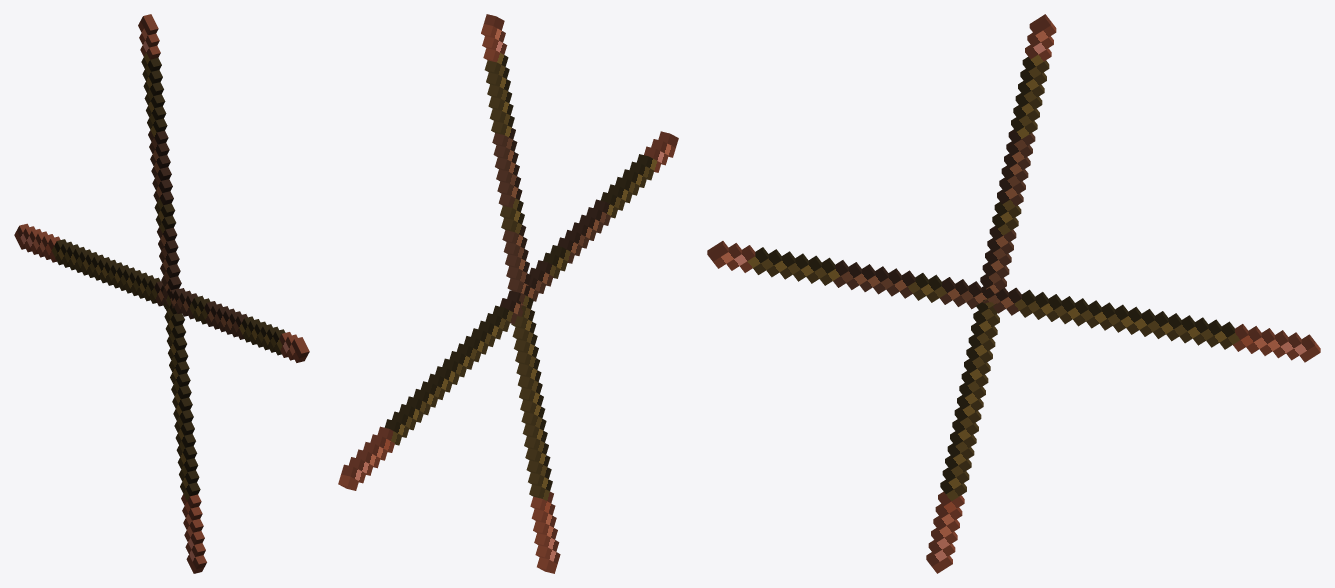
File: copper_pike.glb
3 renders of one model, left to right at view 1: azimuth 30°, elevation 25°; view 2: azimuth 150°, elevation 25°; view 3: azimuth 270°, elevation 25°, orthographic. The views are drawn at different scales.
Visible parts, largest first — view 1: off__Tool_L, main__Tool_R; view 2: off__Tool_L, main__Tool_R; view 3: main__Tool_R, off__Tool_L.
Part boxes in pixels (x1,y1,x2,y2): off__Tool_L: (138,14,206,573); main__Tool_R: (14,223,309,362); off__Tool_L: (481,14,560,573); main__Tool_R: (338,131,678,490); main__Tool_R: (707,241,1320,362); off__Tool_L: (926,14,1056,573).
Size of the model in its own units: 0.0625 by 3.75 by 3.75.
Materials: 1 (1 with a texture image).
